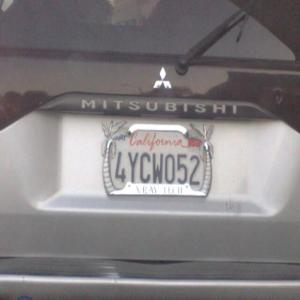Vehicle-registration-plate: (101, 122, 215, 197)
